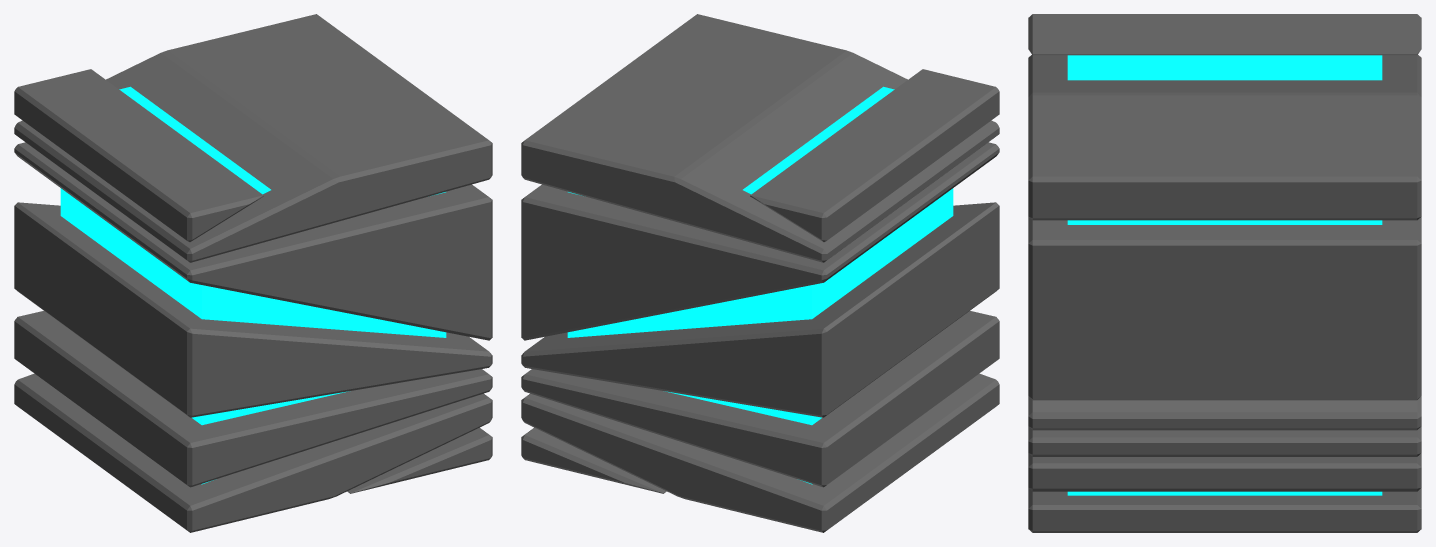
The model's file is GrayRock.fbx.
3 views of the same model, side by side, from view 1: azimuth 30°, elevation 25°; view 2: azimuth 150°, elevation 25°; view 3: azimuth 270°, elevation 25° (orthographic). The views are drawn at different scales.
Parts seen in each view (by area): view 1: Cube.015; view 2: Cube.015; view 3: Cube.015.
Part boxes in pixels (box(x1,y1,x2,y2)): Cube.015: box(14, 14, 492, 532); Cube.015: box(521, 14, 999, 532); Cube.015: box(1028, 14, 1421, 532).
Bounding box in the file's own units: 160 × 160 × 160.
